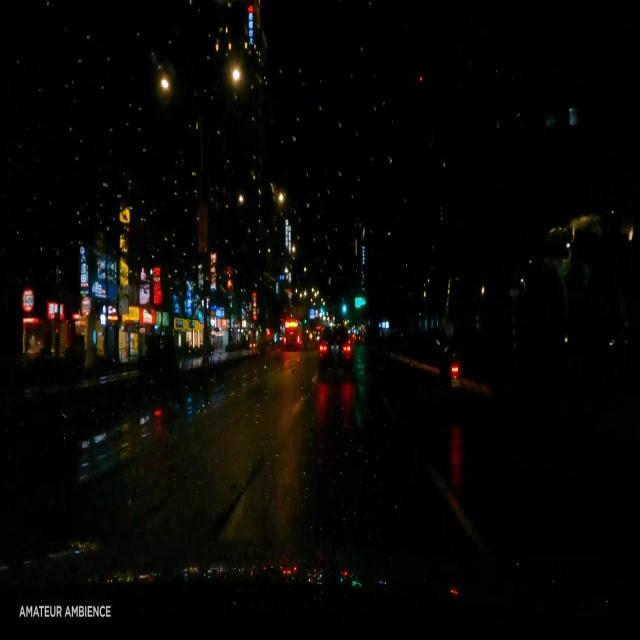Car: (316, 329, 351, 381)
